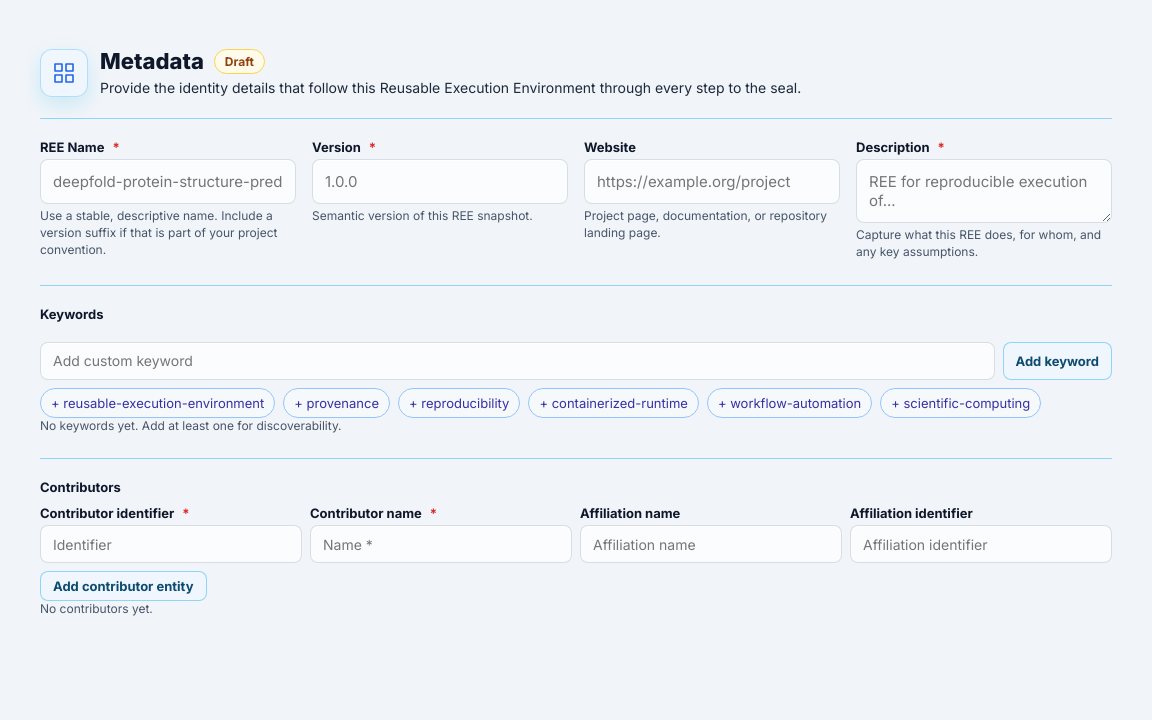
Test: PageMetadataEntry › contributors › refuses a duplicate identifier
Type "0000-0002-1825-0097" into the field with placeholder "identifier".
click(171, 544); type("0000-0002-1825-0097")  # box [40,525,302,563]
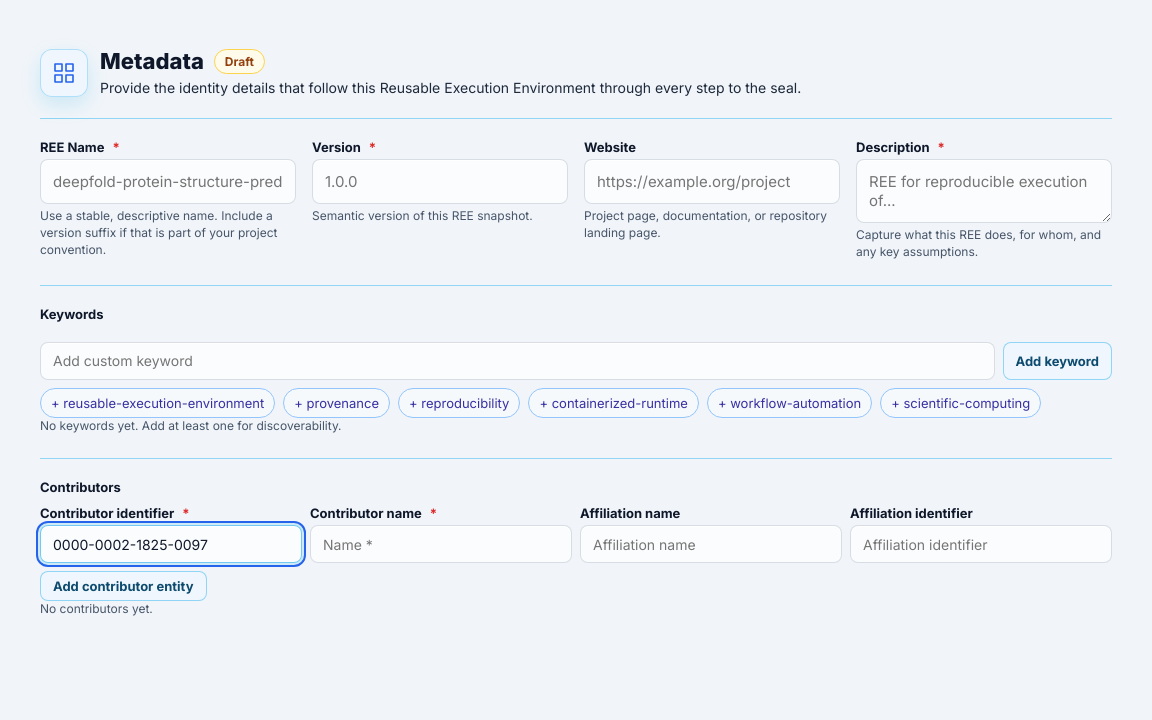
Type "Josiah Carberry" into the field with placeholder "name *".
click(441, 544); type("Josiah Carberry")  # box [310,525,572,563]
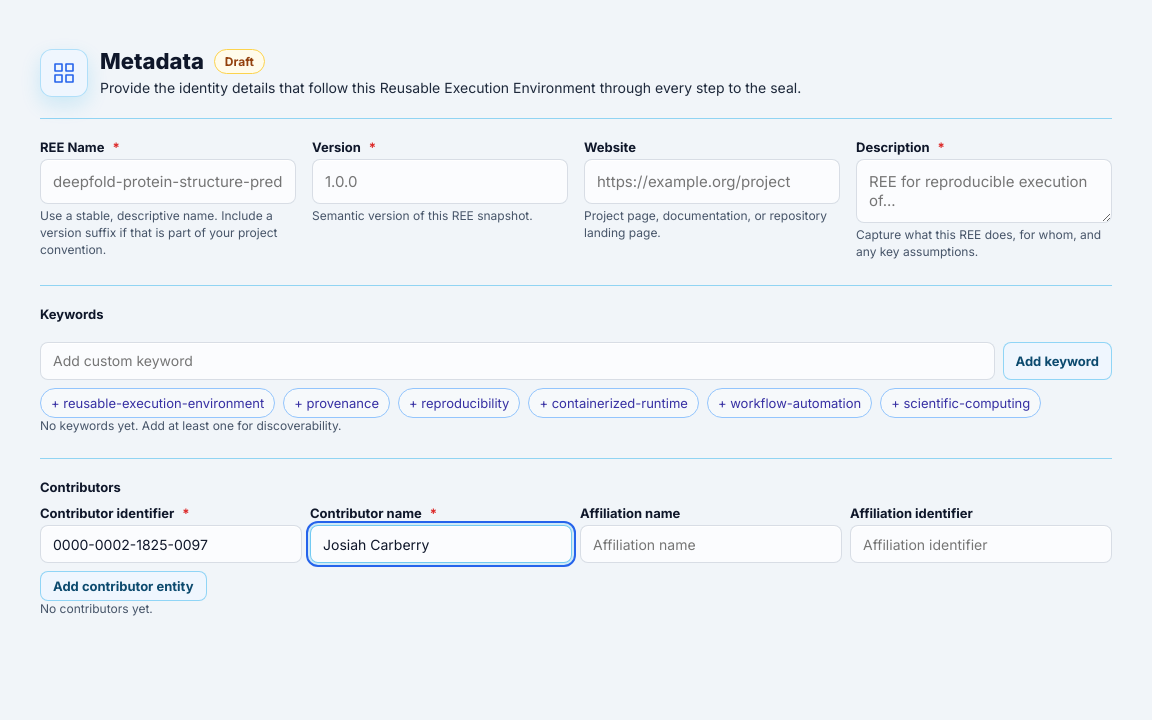
Click the button "Add contributor entity".
click(123, 586)  # box [40,571,206,601]
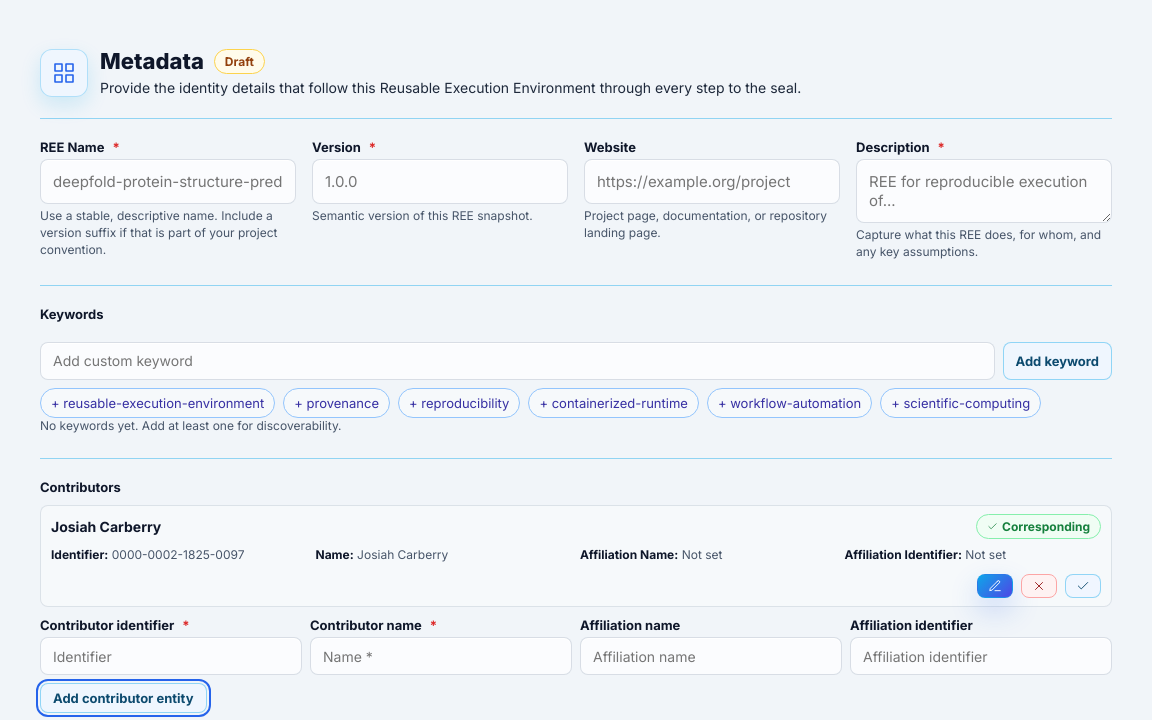
Type "0000-0002-1825-0097" into the field with placeholder "identifier".
click(171, 656); type("0000-0002-1825-0097")  # box [40,637,302,675]
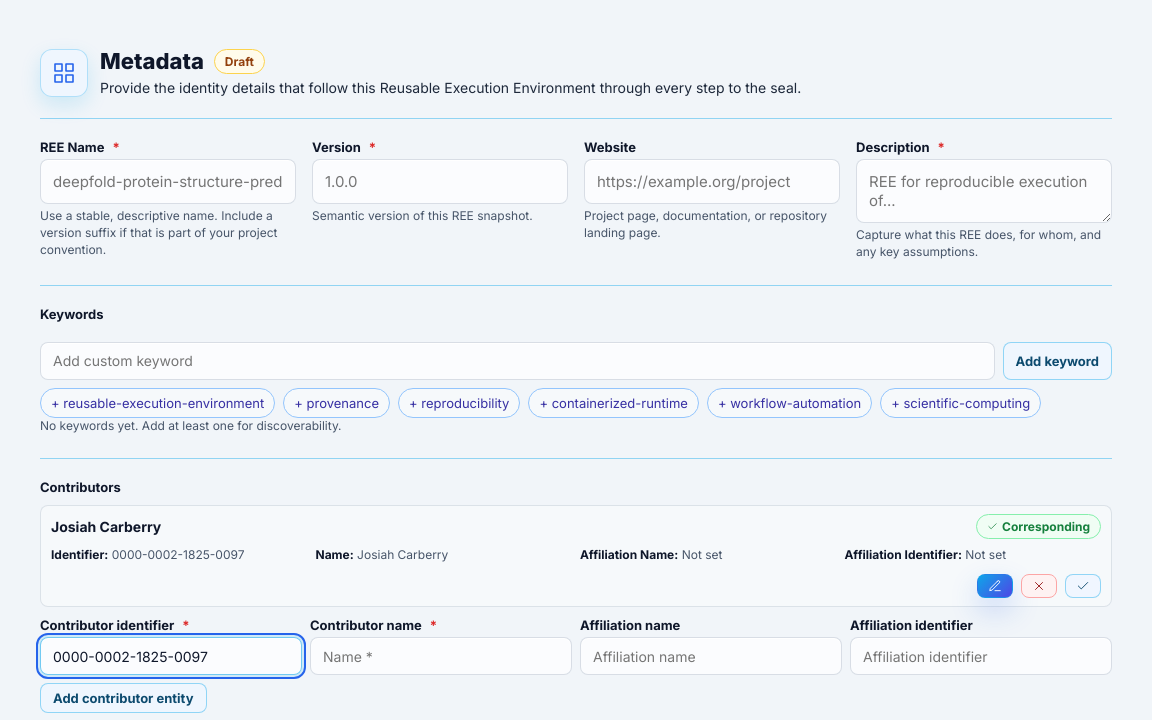
Type "Someone Else" into the field with placeholder "name *".
click(441, 656); type("Someone Else")  # box [310,637,572,675]
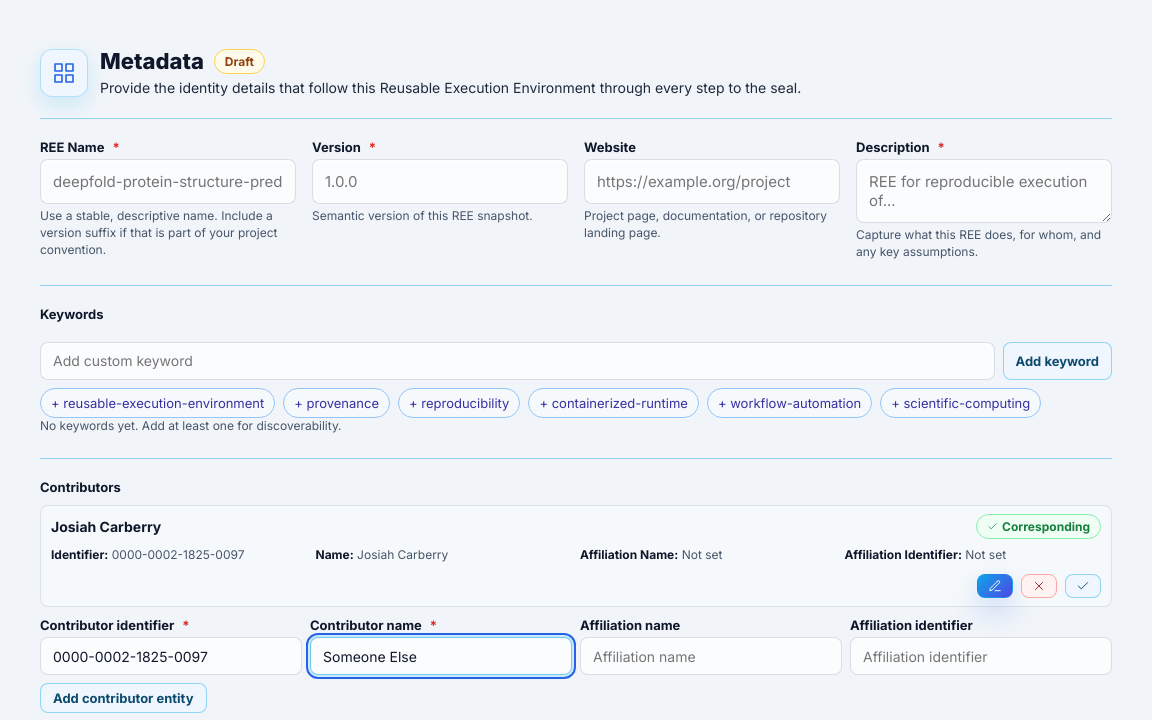
Click the button "Add contributor entity".
click(123, 698)  # box [40,683,206,713]
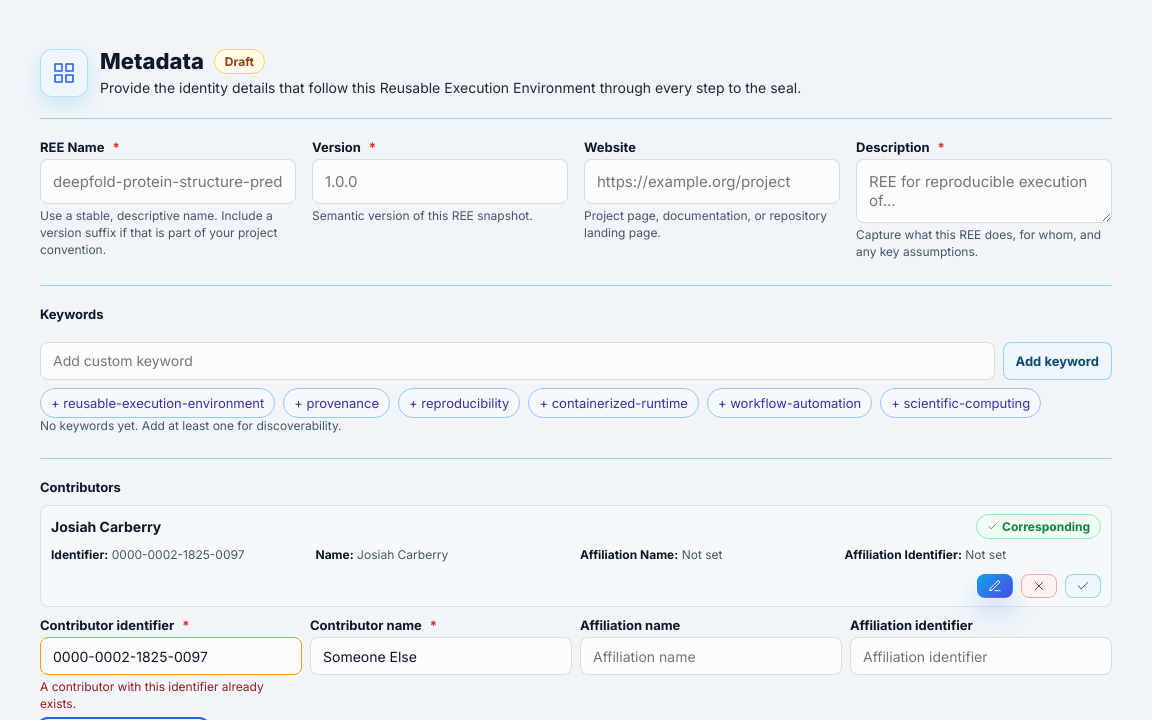
Now the text "A contributor with this identifier already exists." is shown, box [40,679,302,713]
